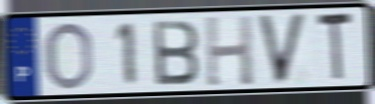1: (113, 21, 140, 86)
B: (150, 18, 202, 87)
H: (203, 13, 255, 89)
O: (44, 20, 95, 92)
T: (315, 10, 356, 85)
V: (254, 10, 309, 87)
